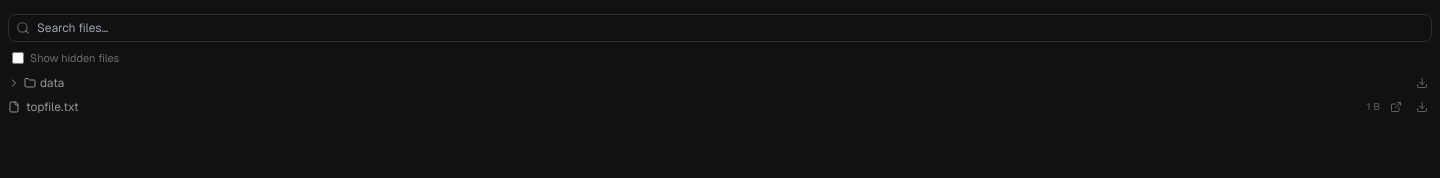
Test: SidebarWorkspaceTree subtree match + auto-fetch › keeps a parent dir visible when a manually-expanded child matches
Expected: the text "topfile.txt" is shown, [26,98,79,114]
Step 1. Click the button "data" → (14, 82), box [8,74,1408,90]
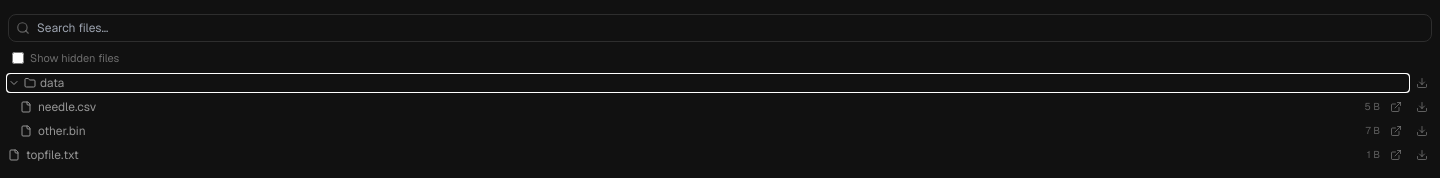
Expected: the text "needle.csv" is shown, [38,98,96,114]
// Query matches only the deep child, never the parent dir name.
Step 2. Type "needle" into the search field named "search workspace" → (720, 28), box [8,14,1432,42]
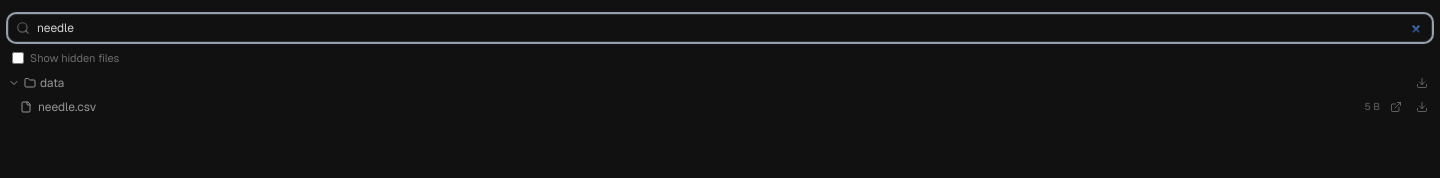
Expected: the text "needle.csv" is shown, [38,98,96,114]
Expected: the text "topfile.txt" is gone
Expected: the text "other.bin" is gone
